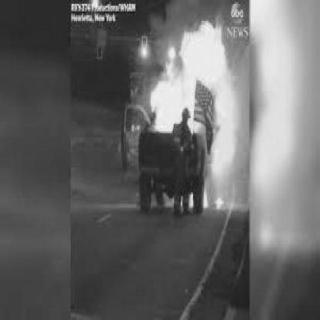Fire: (248, 24, 304, 194)
